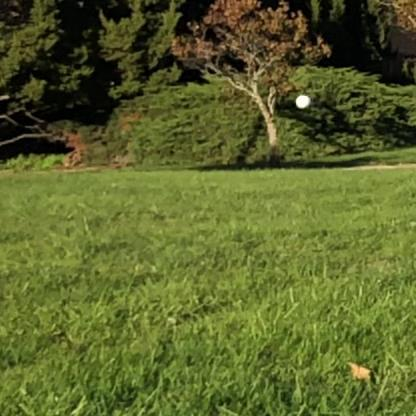golfball: (293, 91, 310, 108)
